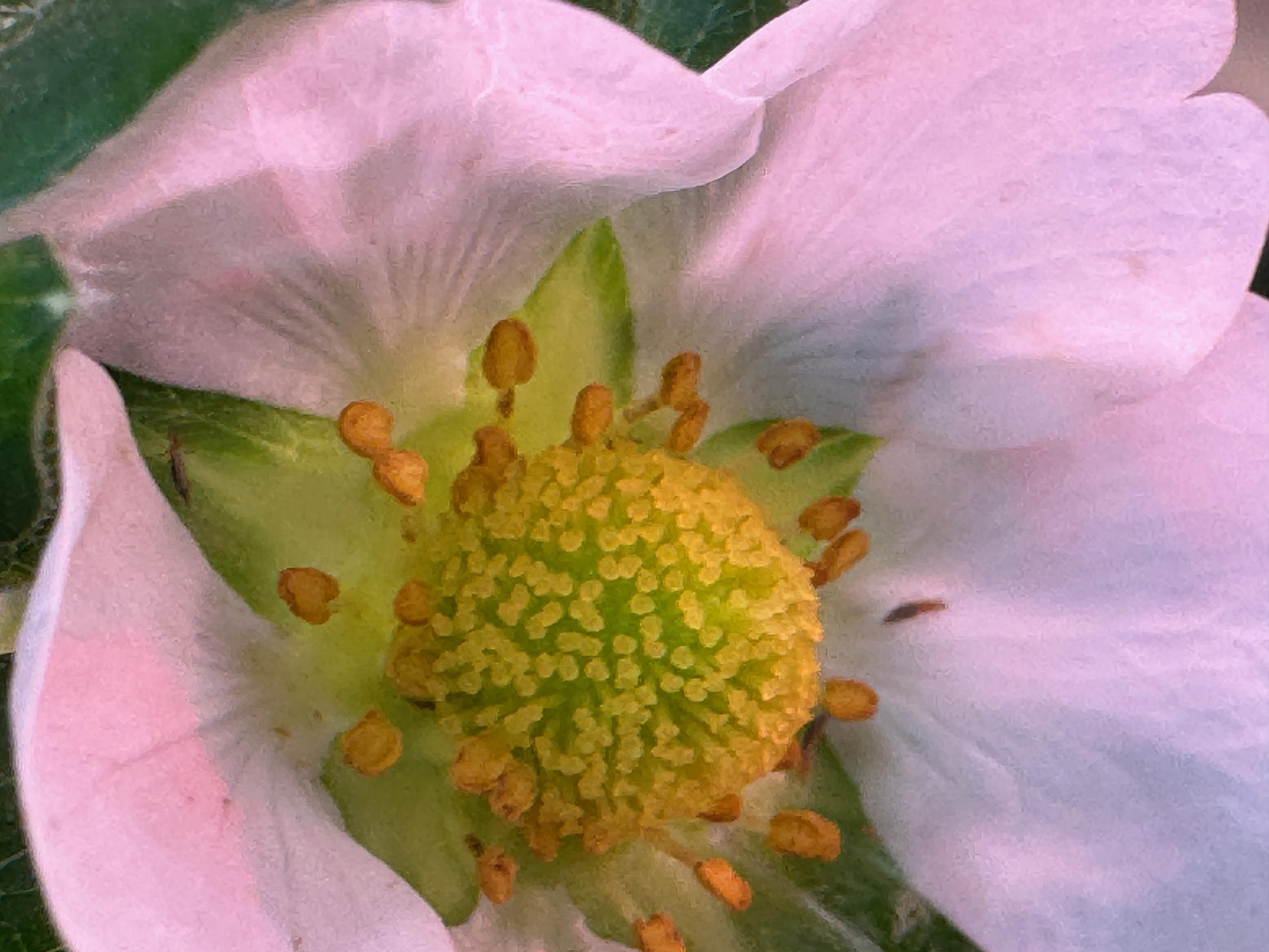tiny_pests: (864, 578, 971, 645), (151, 417, 203, 516)
